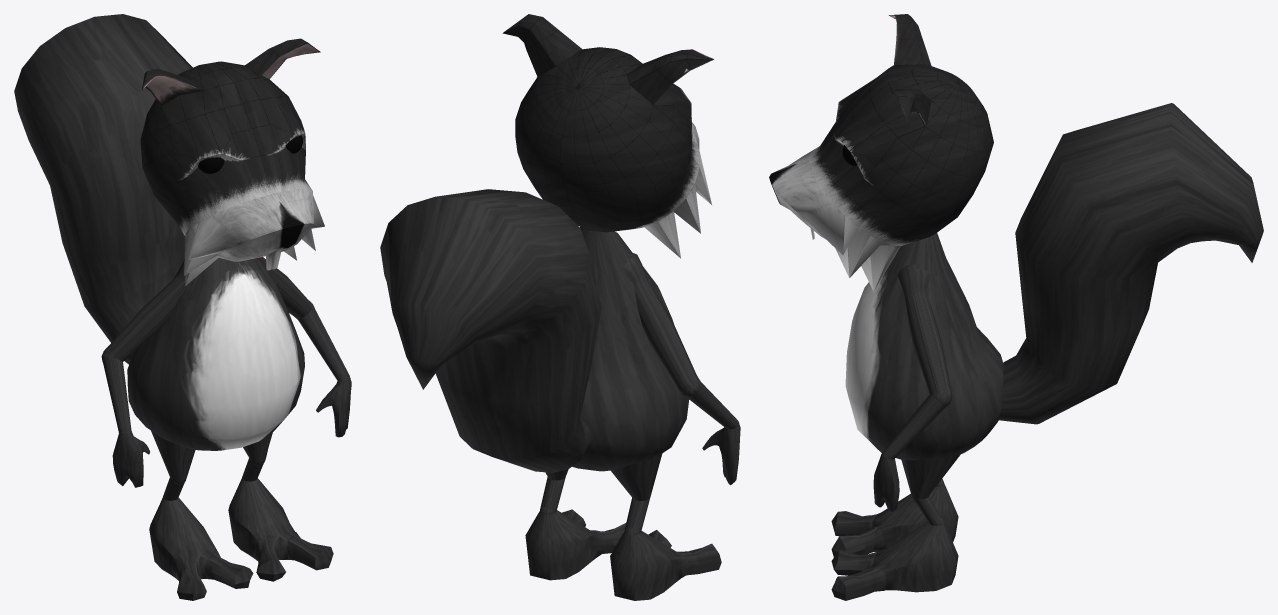
Rendered from GreySquirrel_NPC.fbx.
The picture shows the model from 3 angles, left to right: view 1: azimuth 30°, elevation 25°; view 2: azimuth 150°, elevation 25°; view 3: azimuth 270°, elevation 25°; orthographic projection. The views are drawn at different scales.
Parts seen in each view (by area): view 1: Tail, Head, Torso, L_Leg_Foot, R_Leg_Foot, R_Arm_Upper, R_Arm_Hand, R_Arm_Lower, L_Arm_Lower, R_Leg_Thigh, L_Leg_Toe2, R_Leg_Toe1 (+5 smaller); view 2: Tail, Head, Torso, L_Leg_Foot, R_Leg_Foot, R_Arm_Upper, R_Leg_Thigh, R_Arm_Hand, R_Arm_Lower, R_Leg_Toe2, R_Leg_Shin, L_Leg_Shin (+1 smaller); view 3: Tail, Head, Torso, L_Leg_Foot, L_Arm_Upper, R_Leg_Foot, L_Leg_Thigh, L_Arm_Lower, L_Leg_Toe2, L_Arm_Hand, R_Leg_Toe1, R_Leg_Toe2 (+1 smaller).
Boxes of the visible parts, x1=… form: Tail: x1=14, y1=14, x2=192, y2=364; Head: x1=140, y1=38, x2=324, y2=285; Torso: x1=127, y1=257, x2=304, y2=450; L_Leg_Foot: x1=228, y1=478, x2=294, y2=561; R_Leg_Foot: x1=149, y1=497, x2=220, y2=579; R_Arm_Upper: x1=102, y1=260, x2=204, y2=362; R_Arm_Hand: x1=112, y1=430, x2=149, y2=487; R_Arm_Lower: x1=101, y1=350, x2=131, y2=435; L_Arm_Lower: x1=297, y1=303, x2=350, y2=380; R_Leg_Thigh: x1=151, y1=431, x2=195, y2=485; L_Leg_Toe2: x1=287, y1=532, x2=333, y2=570; R_Leg_Toe1: x1=205, y1=551, x2=253, y2=588; Tail: x1=380, y1=189, x2=601, y2=472; Head: x1=502, y1=14, x2=713, y2=258; Torso: x1=572, y1=227, x2=689, y2=471; L_Leg_Foot: x1=525, y1=507, x2=604, y2=580; R_Leg_Foot: x1=610, y1=527, x2=689, y2=600; R_Arm_Upper: x1=622, y1=252, x2=701, y2=396; R_Leg_Thigh: x1=610, y1=454, x2=661, y2=500; R_Arm_Hand: x1=702, y1=421, x2=740, y2=485; R_Arm_Lower: x1=680, y1=378, x2=739, y2=429; R_Leg_Toe2: x1=678, y1=543, x2=721, y2=577; R_Leg_Shin: x1=624, y1=498, x2=649, y2=534; L_Leg_Shin: x1=540, y1=477, x2=565, y2=514; Tail: x1=999, y1=103, x2=1263, y2=424; Head: x1=769, y1=14, x2=993, y2=291; Torso: x1=845, y1=233, x2=1003, y2=460; L_Leg_Foot: x1=872, y1=517, x2=958, y2=592; L_Arm_Upper: x1=897, y1=264, x2=952, y2=406; R_Leg_Foot: x1=872, y1=479, x2=958, y2=551; L_Leg_Thigh: x1=901, y1=453, x2=960, y2=502; L_Arm_Lower: x1=881, y1=390, x2=951, y2=459; L_Leg_Toe2: x1=831, y1=566, x2=885, y2=600; L_Arm_Hand: x1=873, y1=452, x2=899, y2=511; R_Leg_Toe1: x1=831, y1=526, x2=884, y2=556; R_Leg_Toe2: x1=831, y1=511, x2=877, y2=536.
Size of the model in its own units: 73.44 by 149 by 131.
4 materials, 3 textured.
